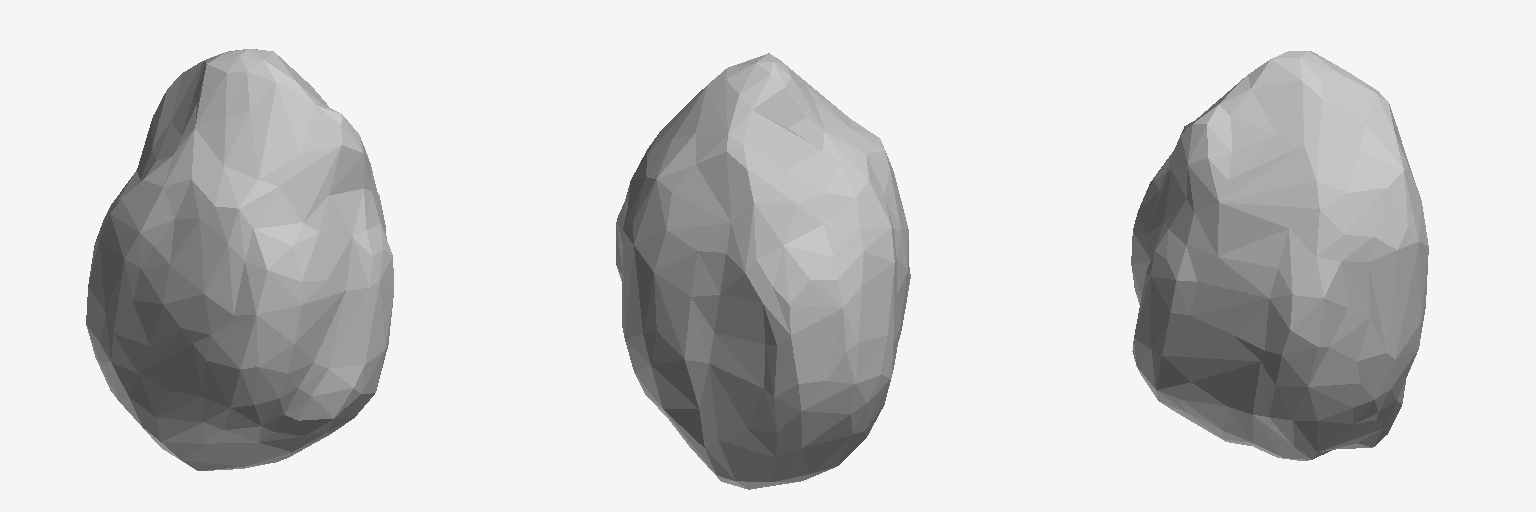
File: Stone.OBJ
3 views of the same model, side by side, from view 1: azimuth 30°, elevation 25°; view 2: azimuth 150°, elevation 25°; view 3: azimuth 270°, elevation 25° (orthographic).
Parts seen in each view (by area): view 1: Group40697; view 2: Group40697; view 3: Group40697.
Boxes of the visible parts, <box> form: Group40697: <box>86,49,393,470</box>; Group40697: <box>616,53,910,489</box>; Group40697: <box>1131,51,1428,460</box>.
Bounding box in the file's own units: 1.89 × 2.68 × 1.81.